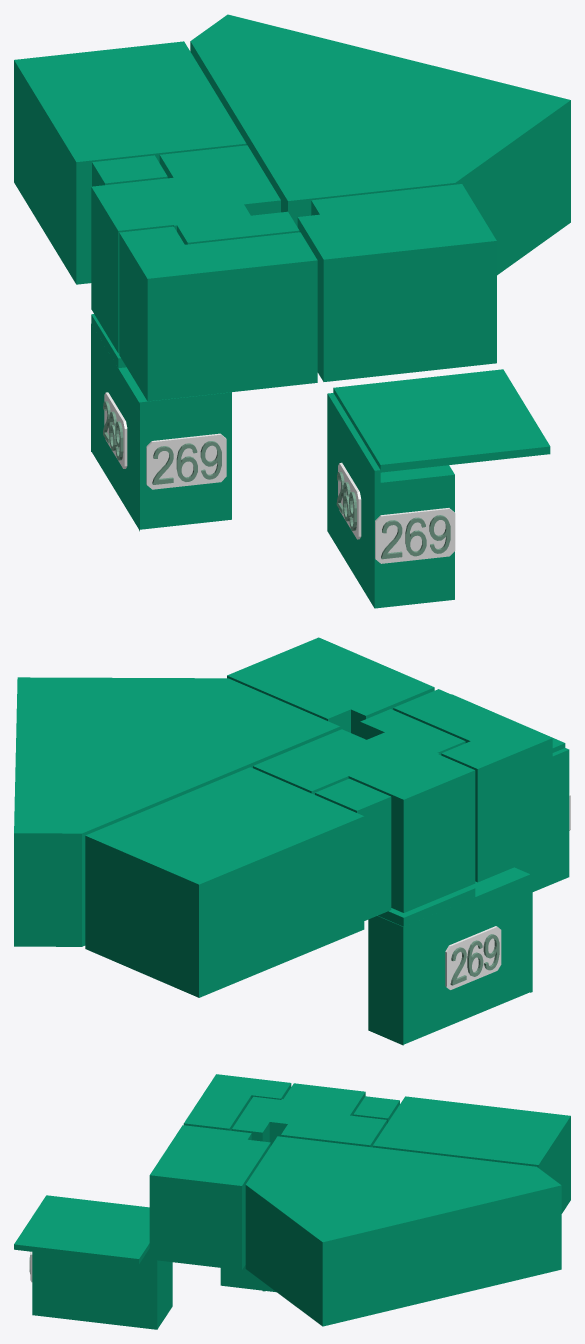
3 views of the same model, one above another, from view 1: azimuth 30°, elevation 25°; view 2: azimuth 150°, elevation 25°; view 3: azimuth 270°, elevation 25° (orthographic). The views are drawn at different scales.
Parts seen in each view (by area): view 1: g_2, g_7, g_6, g_3, g_10, g_1, g_0, g_4, g_8, g_9, g_18, g_14 (+1 smaller); view 2: g_3, g_2, g_6, g_9, g_8, g_7, g_4, g_0, g_5, g_1, g_22; view 3: g_2, g_7, g_3, g_1, g_10, g_4, g_6, g_8, g_0, g_5.
Part boxes in pixels (left/top/right/bottom): g_2: left=190, top=14, right=570, bottom=275; g_7: left=297, top=184, right=496, bottom=381; g_6: left=119, top=226, right=317, bottom=401; g_3: left=14, top=41, right=246, bottom=284; g_10: left=333, top=369, right=550, bottom=472; g_1: left=327, top=393, right=454, bottom=608; g_0: left=124, top=377, right=231, bottom=531; g_4: left=150, top=145, right=299, bottom=244; g_8: left=91, top=180, right=173, bottom=353; g_9: left=91, top=314, right=132, bottom=504; g_18: left=375, top=508, right=455, bottom=563; g_14: left=146, top=433, right=226, bottom=489; g_3: left=85, top=767, right=364, bottom=997; g_2: left=14, top=677, right=340, bottom=946; g_6: left=393, top=689, right=552, bottom=882; g_9: left=368, top=883, right=491, bottom=1045; g_8: left=364, top=754, right=475, bottom=912; g_7: left=227, top=637, right=434, bottom=736; g_4: left=253, top=709, right=465, bottom=794; g_0: left=475, top=867, right=532, bottom=1007; g_5: left=315, top=778, right=391, bottom=920; g_1: left=514, top=748, right=569, bottom=891; g_22: left=445, top=926, right=501, bottom=989; g_2: left=245, top=1136, right=561, bottom=1326; g_7: left=149, top=1125, right=270, bottom=1270; g_3: left=373, top=1096, right=570, bottom=1213; g_1: left=32, top=1249, right=172, bottom=1329; g_10: left=14, top=1195, right=149, bottom=1264; g_4: left=232, top=1096, right=386, bottom=1147; g_6: left=183, top=1074, right=291, bottom=1130; g_8: left=283, top=1083, right=365, bottom=1112; g_0: left=220, top=1265, right=276, bottom=1292; g_5: left=353, top=1096, right=399, bottom=1123.
Size of the model in its own units: 10.27 by 5.2 by 14.37.
